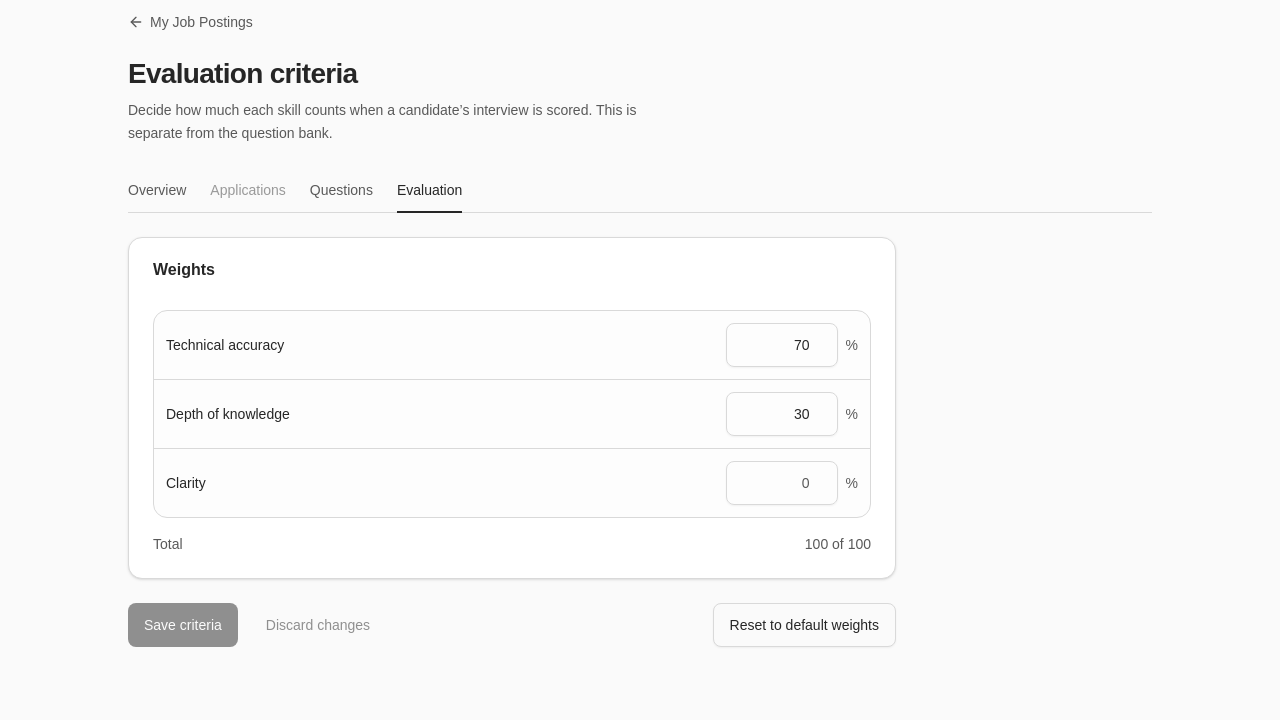
Test case: EvaluationCriteria › keeps the draft and shows the server's message when saving fails
The image size is (1280, 720).
Expected: the number field labelled "Clarity" is shown, [726,460,838,504]
Replace the text in the number field labelled "Technical accuracy" with "50" at (782, 344), box [726,322,838,366]
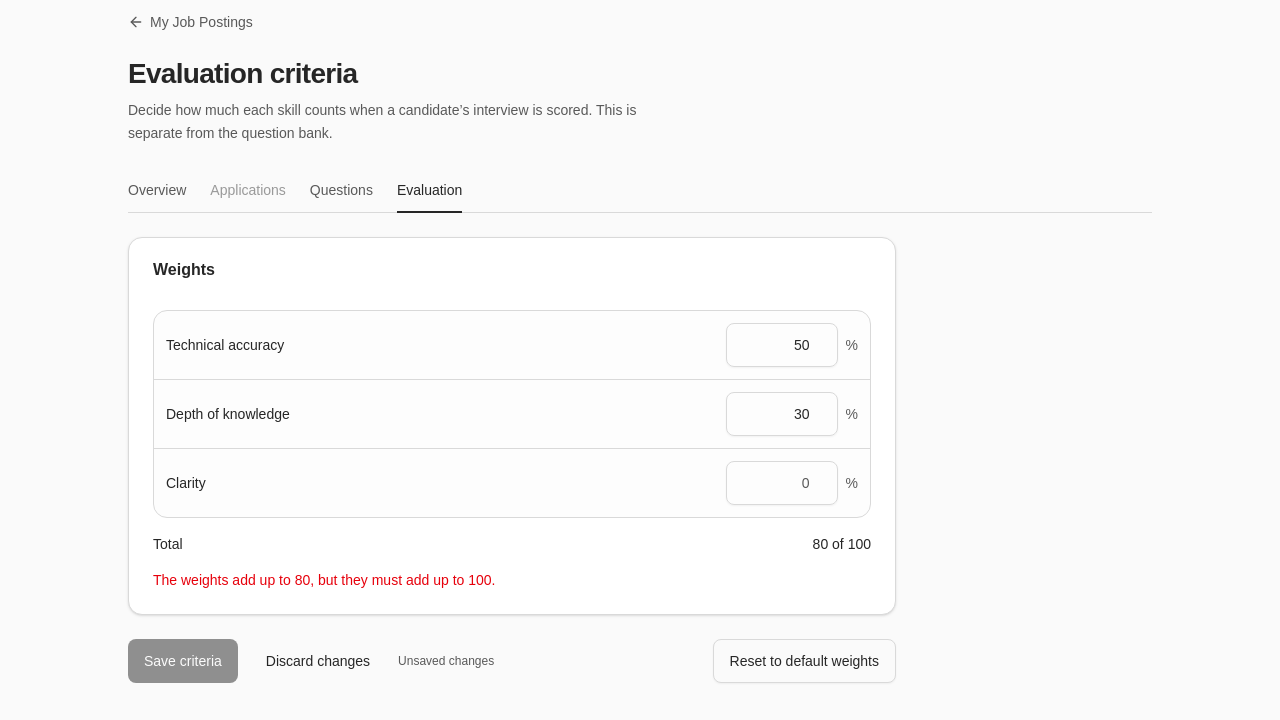
Type "20" into the number field labelled "Clarity" at (782, 482), box [726,460,838,504]
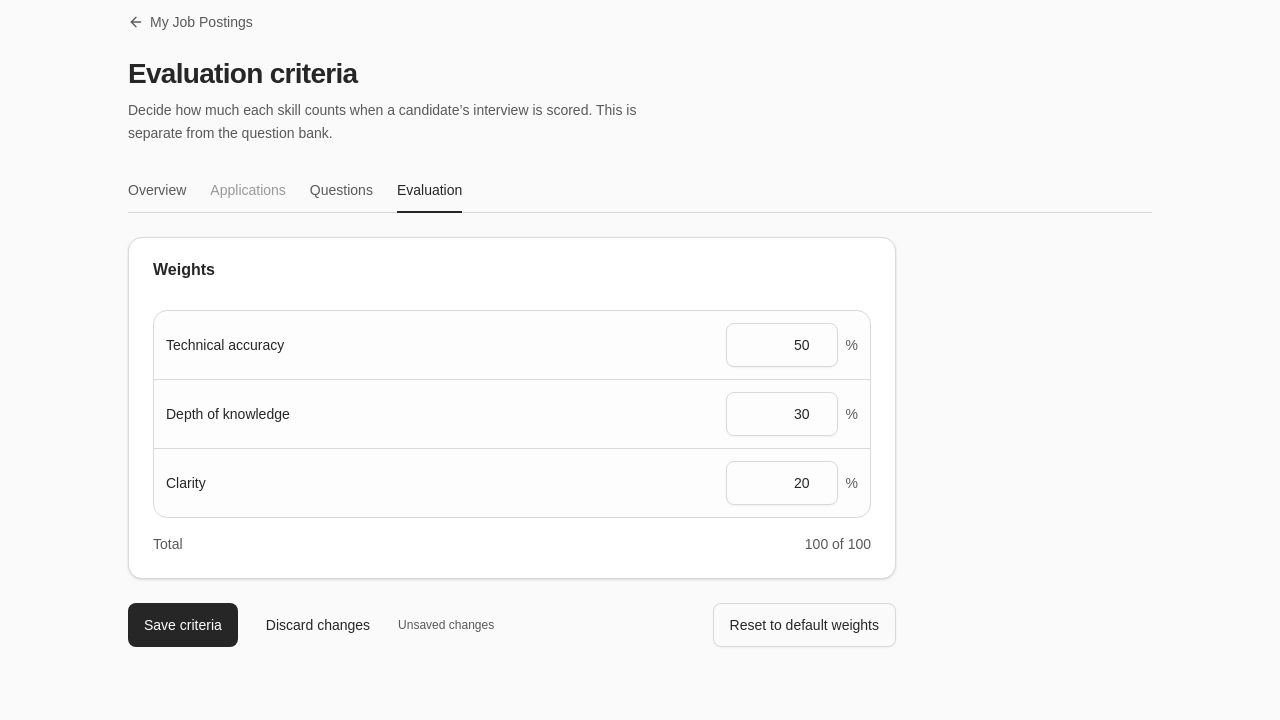
Now the button "Save criteria" is enabled
Click the button "Save criteria" at (183, 624), box [128,602,238,646]
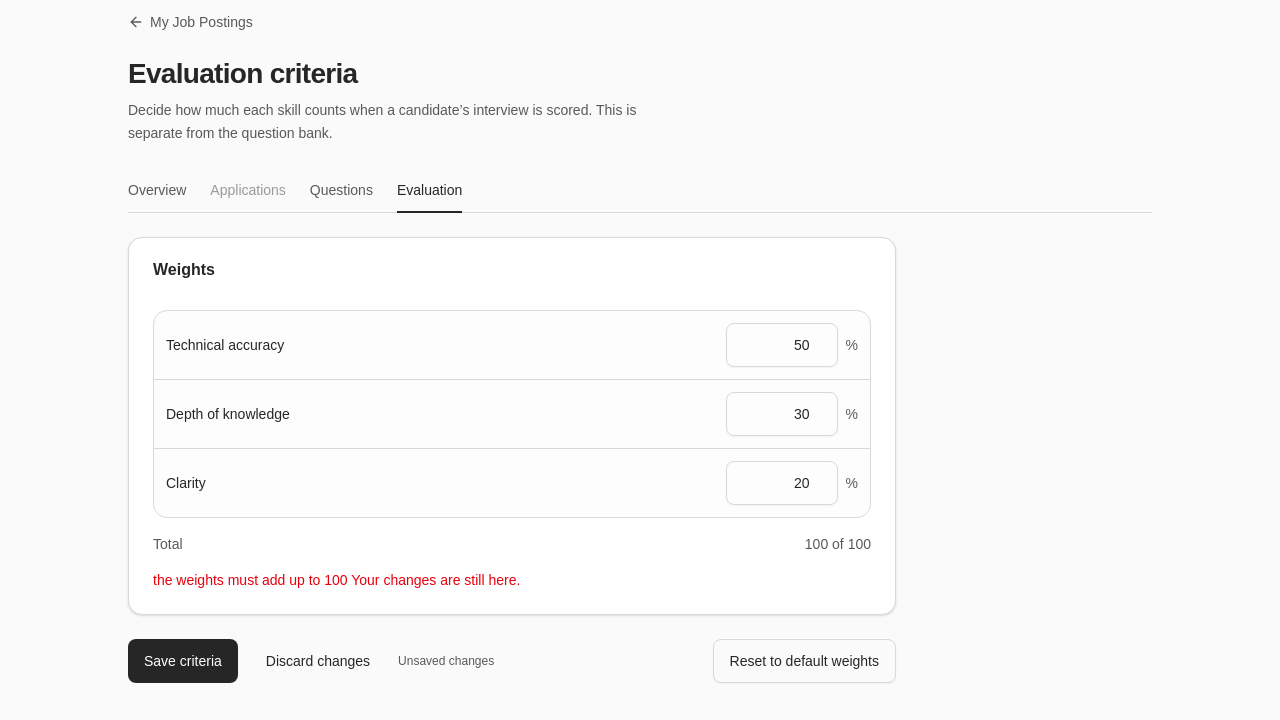
Now the text "the weights must add up to 100 Your changes are still here." is shown, box [153,572,520,588]
